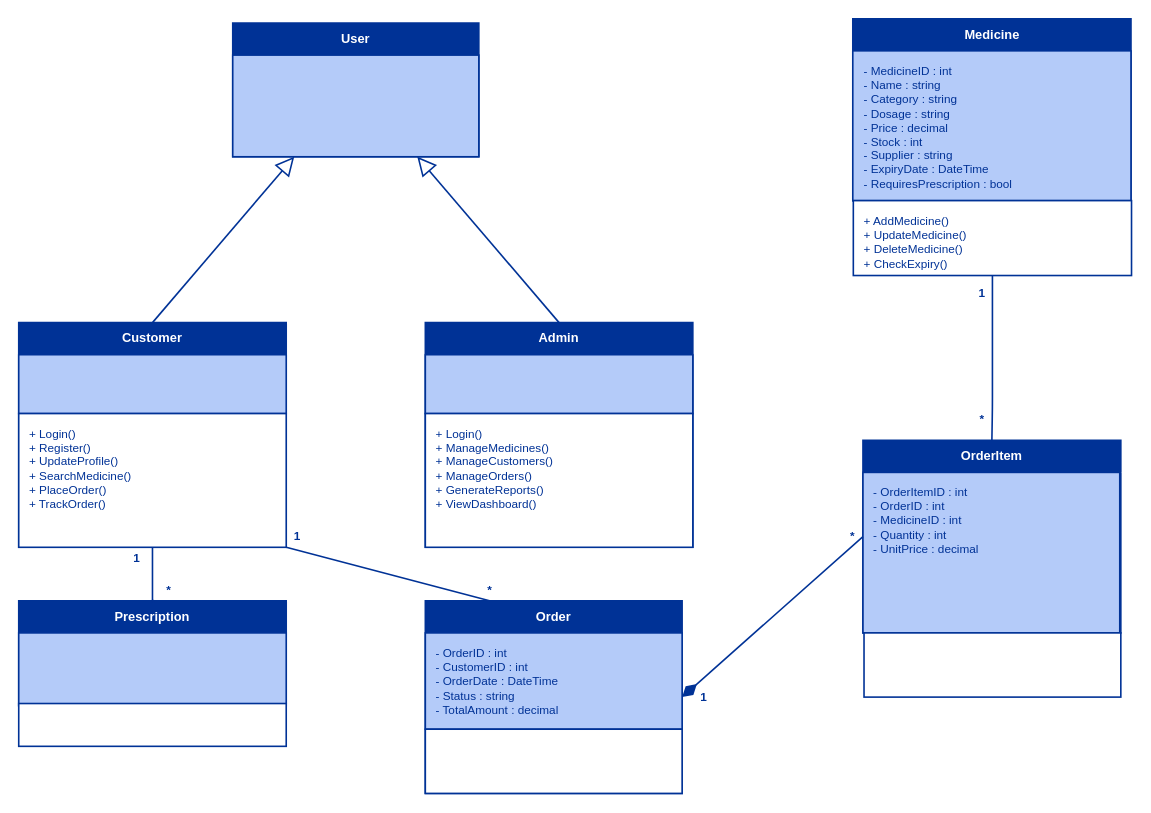
This 1151x813 diagram has some shape labels left out. The shapes that lost their labels are listed below. From the top down, each one's centre as x and y in pixels, then its label:
At point 355,105: "- Name : string - Email : string - Phone : string - Password : string".
At point 152,383: "- CustomerID : int - Address : string".
At point 558,383: "- AdminID : int - Username : string".
At point 152,669: "- PrescriptionID : int - FilePath : string - UploadDate : DateTime".
At point 992,664: "+ CalculateSubtotal()".
At point 152,724: "+ UploadPrescription()".
At point 553,761: "+ CalculateTotal() + UpdateStatus()".
